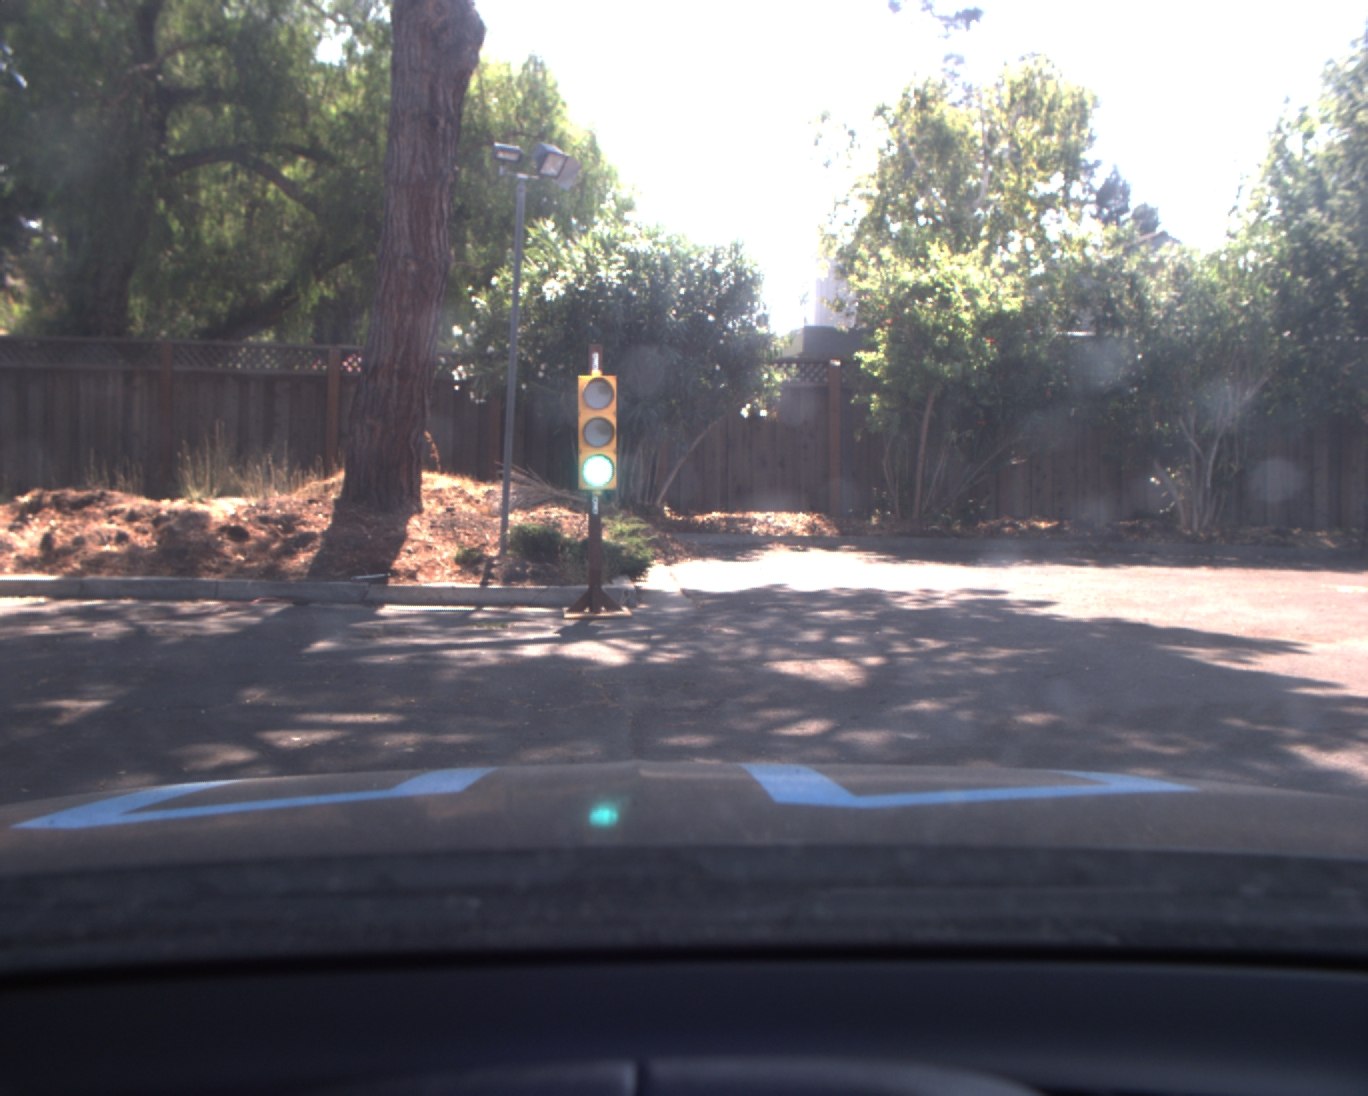green: (580, 373, 623, 494)
